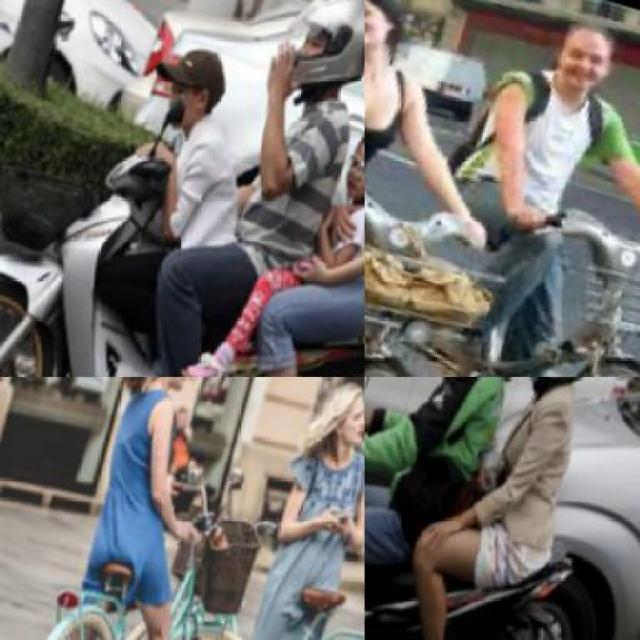With Helmet: (254, 0, 363, 137), (486, 377, 626, 426)
Without Helmet: (528, 12, 634, 122), (364, 0, 415, 72), (124, 377, 216, 405)
